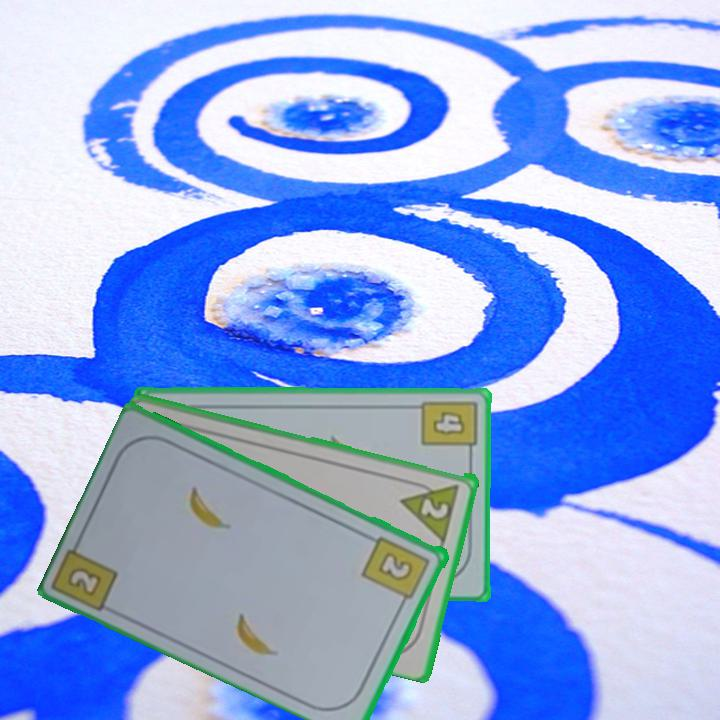2b: (359, 532, 434, 609), (64, 563, 106, 600)
2p: (398, 475, 463, 542)
4b: (418, 396, 479, 460)
